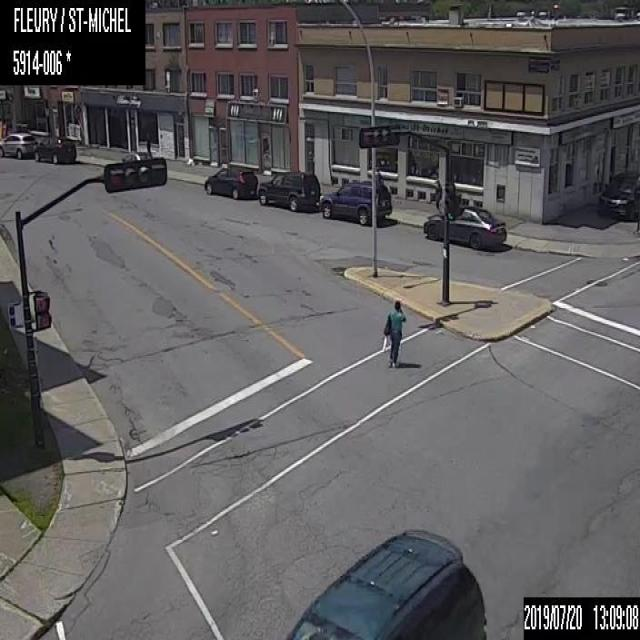pedestrian: (383, 297, 406, 368), (433, 180, 441, 213), (144, 131, 151, 156)
vehicle: (286, 528, 486, 639), (423, 207, 506, 249), (320, 182, 391, 224), (258, 170, 320, 212), (597, 172, 639, 220), (205, 164, 257, 199), (34, 136, 76, 164), (0, 132, 37, 158), (121, 148, 146, 160)
